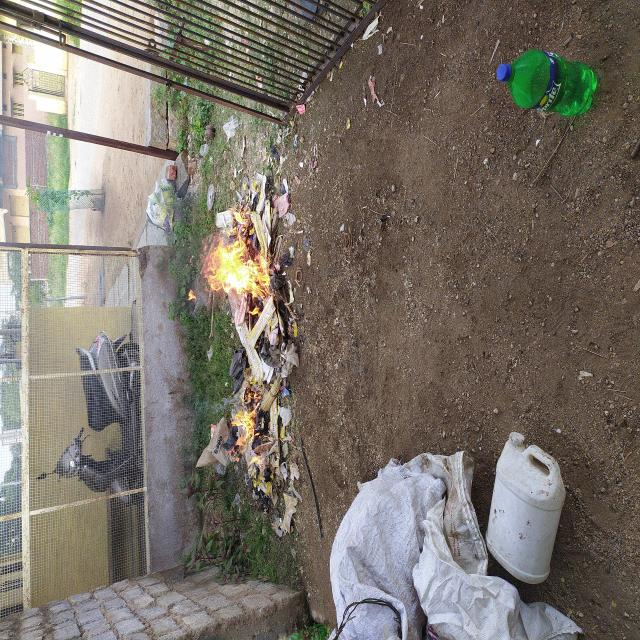Fire: (232, 252, 328, 365), (138, 305, 187, 342)
